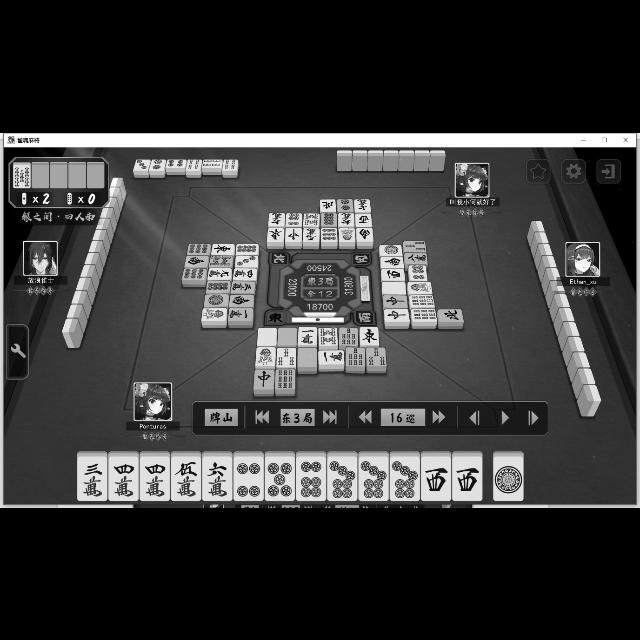1m: (318, 350, 344, 364), (298, 326, 316, 346), (229, 308, 253, 320)
1p: (494, 456, 524, 500), (378, 244, 404, 256), (204, 294, 228, 306)
1s: (255, 347, 275, 368), (202, 307, 226, 321), (408, 282, 432, 294), (338, 227, 356, 241)
2p: (336, 198, 354, 212), (148, 158, 166, 170)
3m: (78, 456, 108, 500), (230, 281, 254, 293)
3p: (235, 255, 257, 267), (132, 158, 150, 170)
3s: (276, 347, 296, 367), (368, 346, 387, 366), (402, 240, 426, 252)
4m: (140, 456, 170, 500), (109, 458, 139, 500), (233, 268, 257, 280)
4p: (234, 456, 262, 499), (166, 159, 187, 167)
4s: (186, 157, 202, 170), (202, 158, 222, 168), (222, 158, 238, 170)
5m: (170, 456, 202, 499)
5p: (265, 456, 295, 500)
5s: (14, 164, 31, 188)
6m: (202, 456, 234, 499), (268, 211, 286, 227), (338, 213, 354, 227)
6p: (296, 456, 326, 499), (408, 264, 428, 280), (284, 211, 302, 227)
7m: (354, 198, 372, 212)
7p: (328, 456, 358, 499), (359, 456, 388, 500), (391, 456, 419, 500)
7s: (346, 346, 366, 366), (338, 326, 358, 344)
8m: (404, 251, 426, 263)
8p: (235, 242, 259, 254), (206, 280, 230, 292), (321, 212, 337, 225)
8s: (318, 328, 338, 344), (209, 255, 233, 267), (303, 212, 321, 226)
9m: (208, 268, 232, 280), (304, 226, 320, 242)
9p: (182, 266, 206, 280), (188, 243, 210, 255), (320, 227, 338, 241)
9s: (275, 369, 295, 389), (410, 293, 434, 307), (411, 308, 435, 320)
chun: (254, 369, 274, 388), (384, 308, 410, 322), (384, 295, 408, 307), (285, 227, 301, 241)
haku: (298, 347, 316, 367), (382, 280, 406, 294), (278, 327, 296, 345), (256, 328, 276, 344)
nan: (229, 294, 253, 306), (380, 256, 404, 268), (184, 256, 208, 266), (357, 227, 373, 241)
pe: (438, 308, 462, 322), (319, 198, 336, 212)
sha: (422, 456, 452, 500), (453, 456, 483, 499), (382, 268, 406, 280), (356, 213, 372, 227)
tou: (360, 326, 378, 344), (212, 242, 234, 254), (268, 228, 284, 240)
